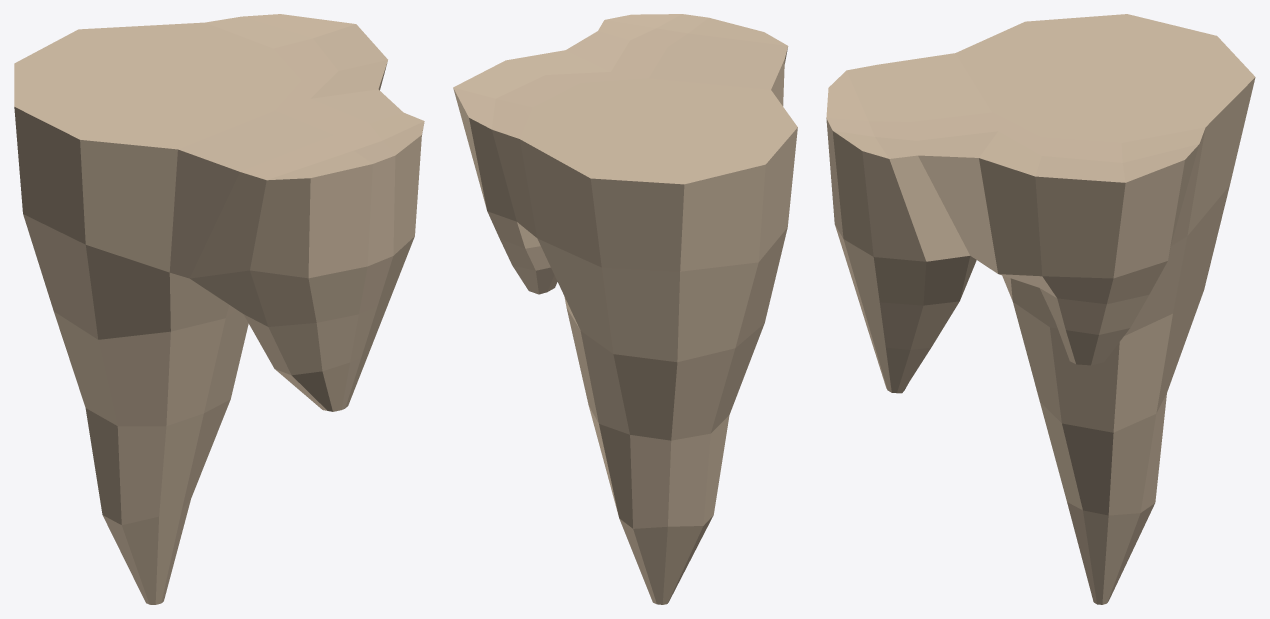
File: Stalagtite_2.fbx
3 renders of one model, left to right at view 1: azimuth 30°, elevation 25°; view 2: azimuth 150°, elevation 25°; view 3: azimuth 270°, elevation 25°, orthographic. The views are drawn at different scales.
Visible parts, largest first — view 1: Stalagtite_2; view 2: Stalagtite_2; view 3: Stalagtite_2.
Part boxes in pixels (x1,y1,x2,y2): Stalagtite_2: [14, 14, 424, 604]; Stalagtite_2: [453, 14, 797, 604]; Stalagtite_2: [826, 14, 1255, 604].
Size of the model in its own units: 321 by 464 by 345.
